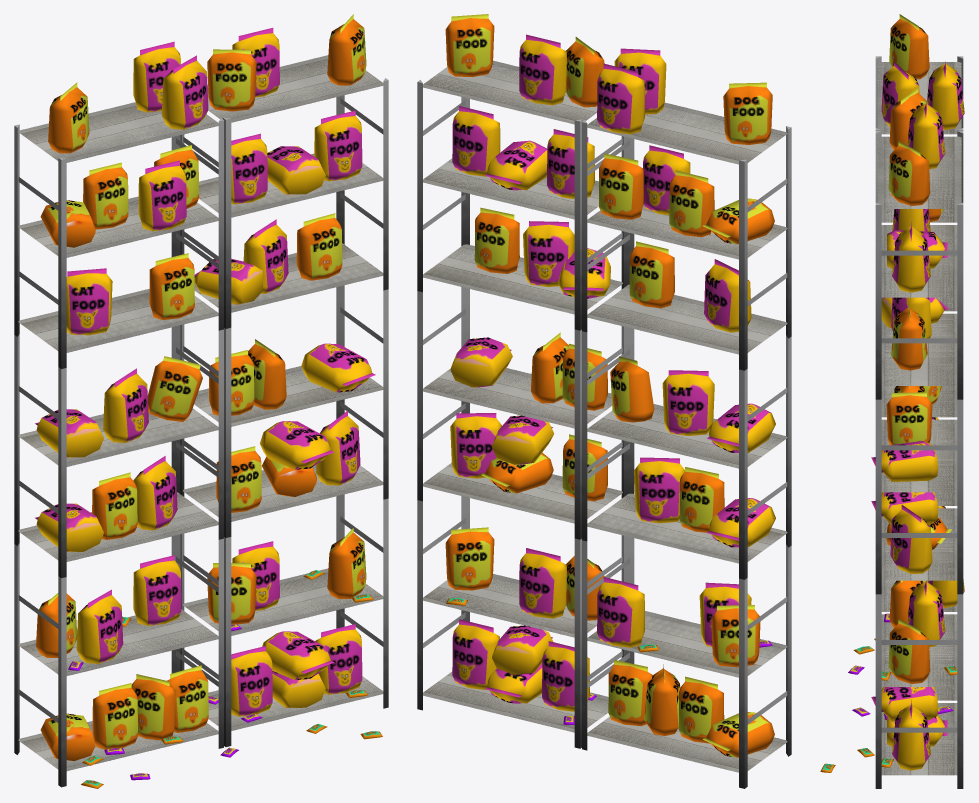
Rendered from Messy_Appliance_WallRack_TypeE.fbx.
3 views of the same model, side by side, from view 1: azimuth 30°, elevation 25°; view 2: azimuth 150°, elevation 25°; view 3: azimuth 270°, elevation 25° (orthographic). The views are drawn at different scales.
Parts seen in each view (by area): view 1: Messy_Appliance_WallRack_TypeE; view 2: Messy_Appliance_WallRack_TypeE; view 3: Messy_Appliance_WallRack_TypeE.
Part boxes in pixels (box(x1,y1,x2,y2)): Messy_Appliance_WallRack_TypeE: box(14, 14, 388, 788); Messy_Appliance_WallRack_TypeE: box(417, 14, 791, 788); Messy_Appliance_WallRack_TypeE: box(820, 14, 964, 788).
Size of the model in its own units: 402 by 800 by 165.
